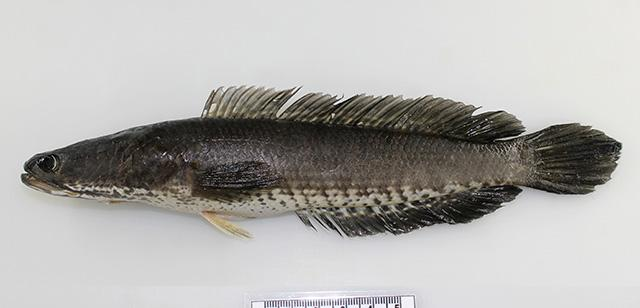Mulut: (5, 143, 89, 216)
Sirip Anal: (293, 182, 529, 244)
Sirip Dada: (184, 153, 304, 213)
Sirip Ekor: (506, 113, 630, 203)
Sirip Perut: (188, 205, 256, 247)
Sirip Punggung: (195, 78, 532, 148)
